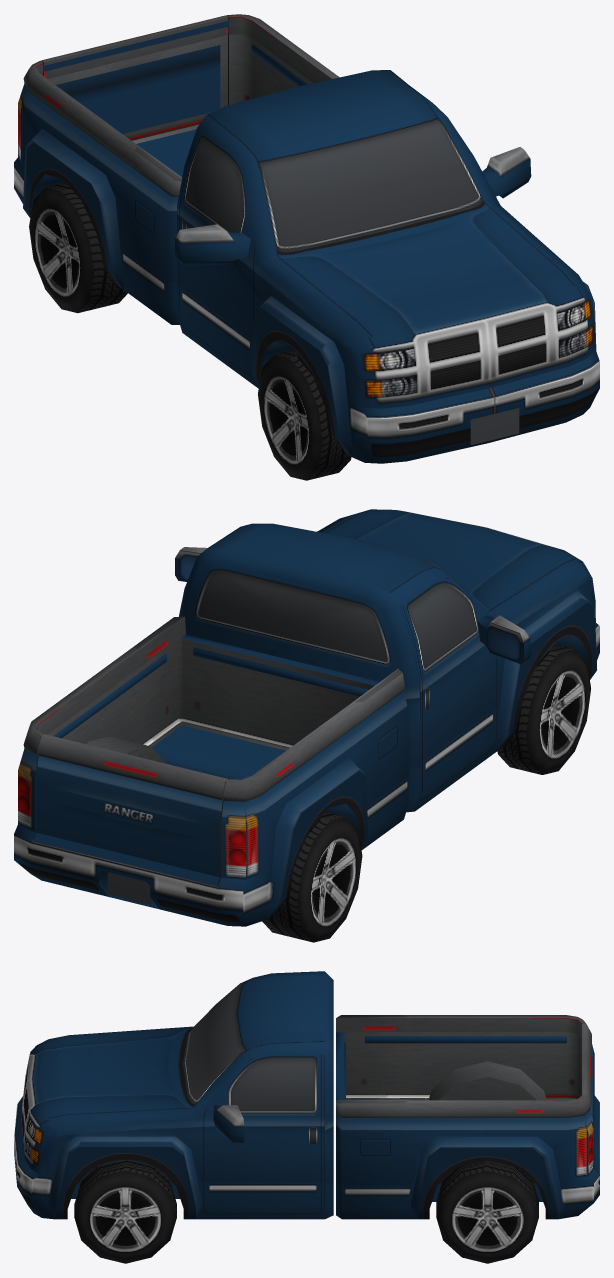
File: car.fbx
The picture shows the model from 3 angles, top to bottom: view 1: azimuth 30°, elevation 25°; view 2: azimuth 150°, elevation 25°; view 3: azimuth 270°, elevation 25°; orthographic projection. The views are drawn at different scales.
Parts seen in each view (by area): view 1: PickUp_3A, PickUp_3A.002, PickUp_3A.004; view 2: PickUp_3A, PickUp_3A.002, PickUp_3A.004; view 3: PickUp_3A, PickUp_3A.001, PickUp_3A.003.
Boxes of the visible parts, x1,y1,x2,y2 form: PickUp_3A: (14,14,599,463); PickUp_3A.002: (29,182,127,313); PickUp_3A.004: (258,350,351,480); PickUp_3A: (14,509,599,926); PickUp_3A.002: (262,812,362,942); PickUp_3A.004: (497,644,590,774); PickUp_3A: (14,971,599,1219); PickUp_3A.001: (436,1160,538,1263); PickUp_3A.003: (74,1160,176,1263).
Size of the model in its own units: 70.08 by 50.92 by 129.
Materials: 2 (2 with a texture image).
